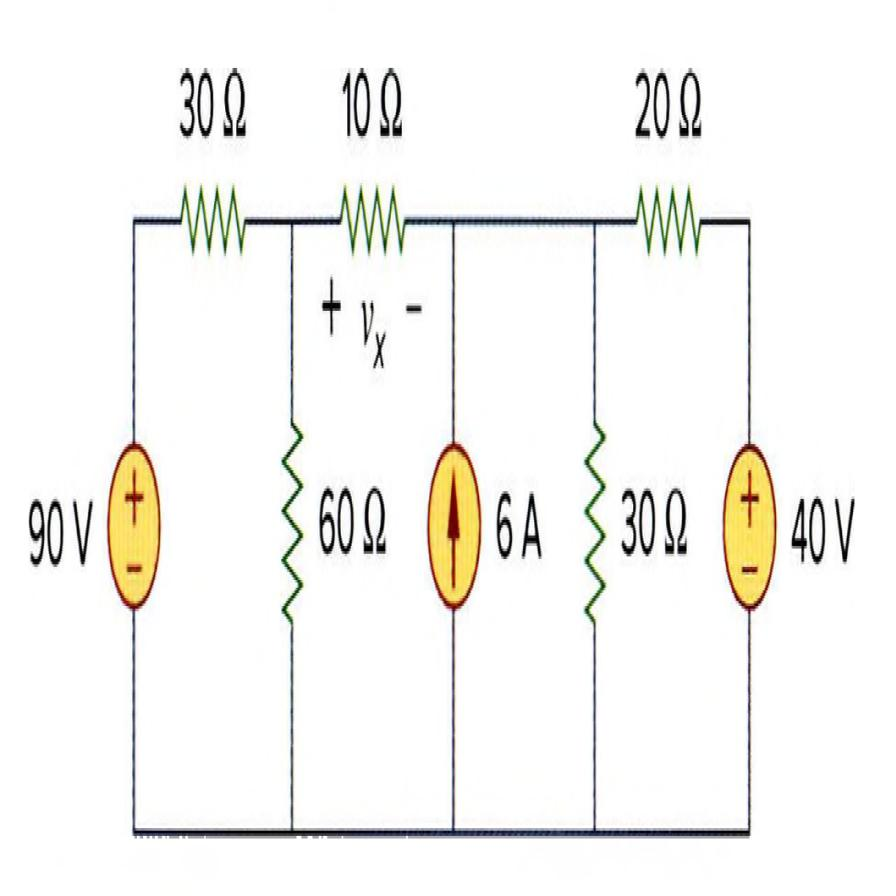I1: (427, 444, 481, 611)
R1: (630, 151, 706, 291), (335, 157, 410, 275), (176, 179, 252, 275)
R2: (575, 408, 611, 646), (276, 384, 307, 638)
V1: (107, 444, 161, 611), (723, 447, 775, 611)
